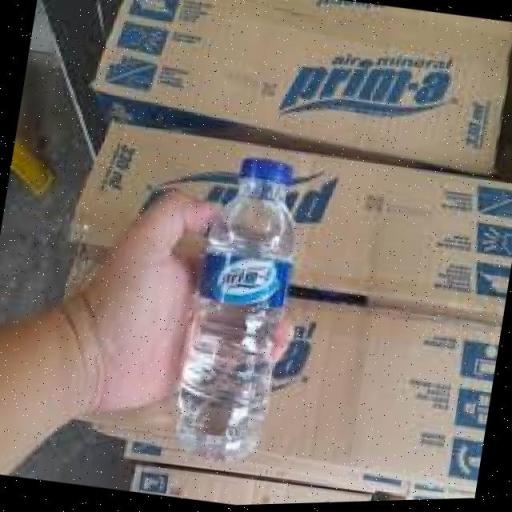plastic: (174, 160, 296, 467)
